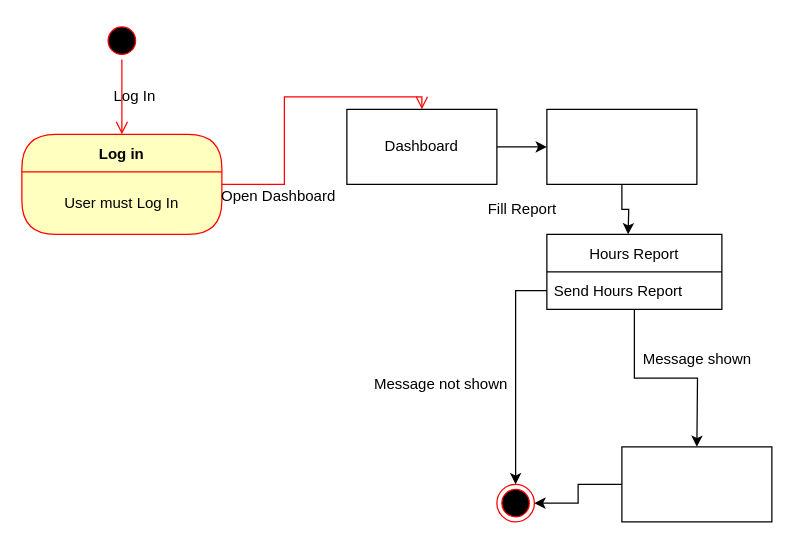
The diagram is 794 pixels wide and 544 high, and some of its shapes have lost their labels. The shapes that lost their labels are listed below. From the top down, each one's centre as x and y in pixels, then its label:
point (621, 146): Fill Daily Report
point (696, 484): Form Sent
